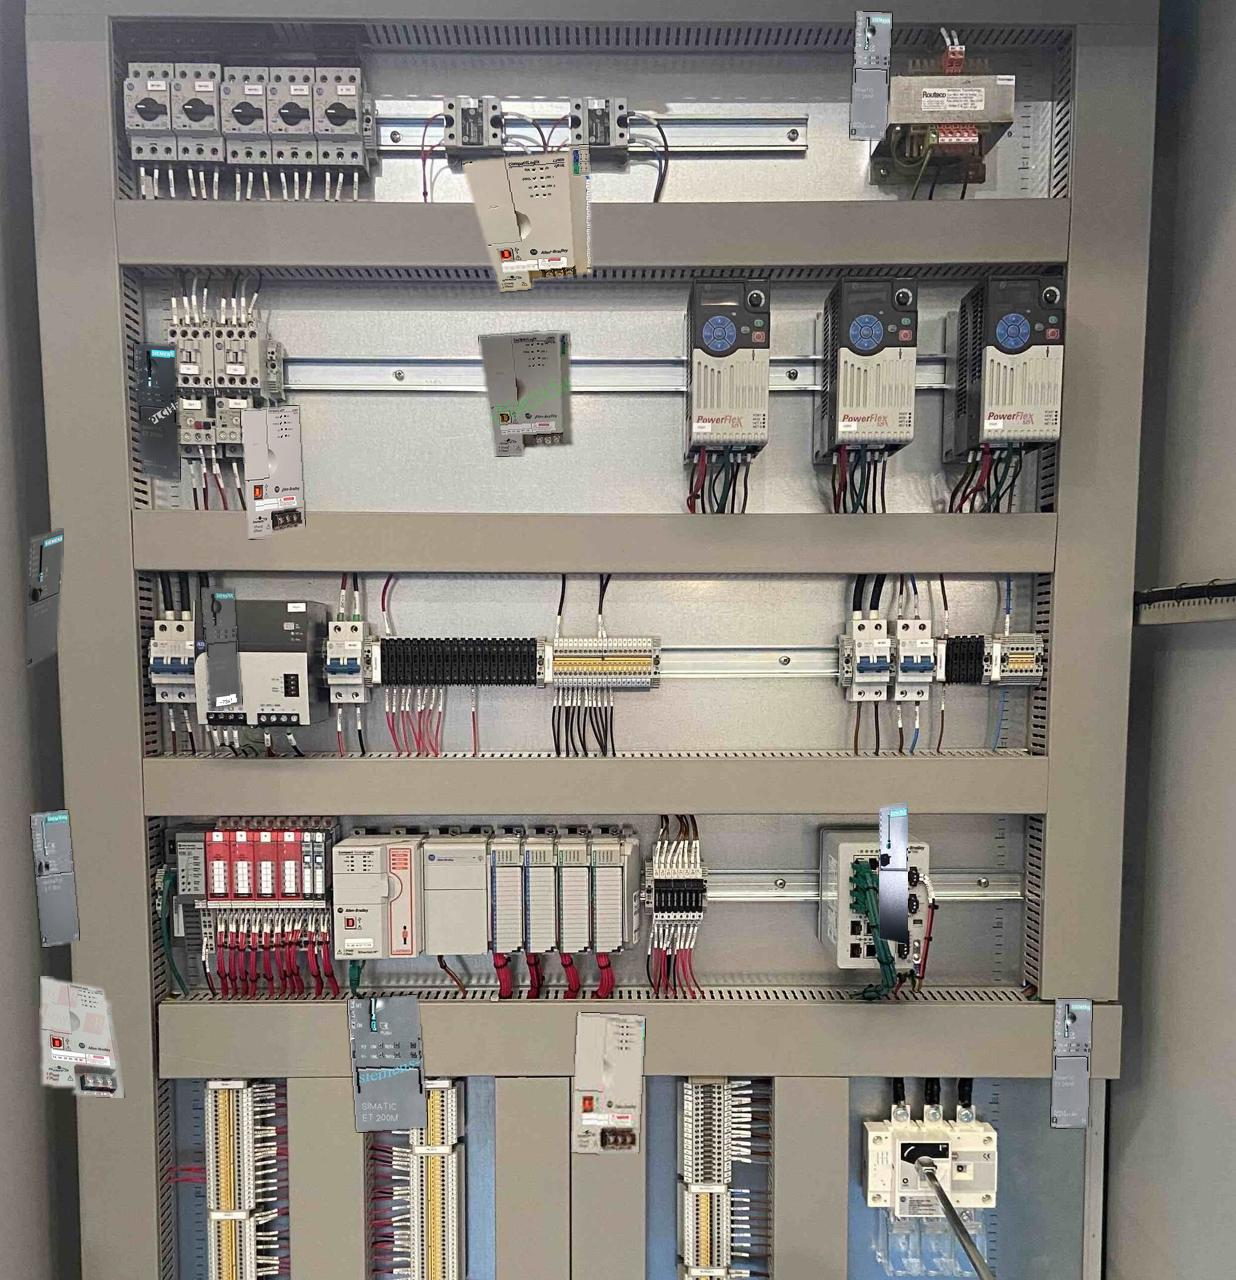AllenBradley: (462, 145, 591, 291), (479, 331, 572, 455), (572, 1013, 644, 1153), (40, 976, 123, 1097), (241, 406, 304, 538)
Siemens: (30, 810, 78, 946), (27, 528, 63, 667), (878, 803, 907, 943)
